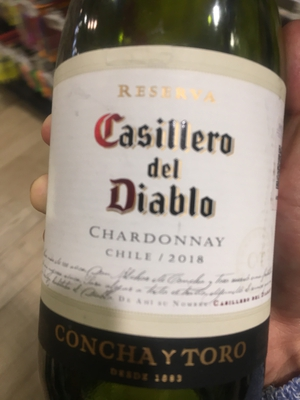casillero del diablo chardonnay: (36, 10, 287, 398)
